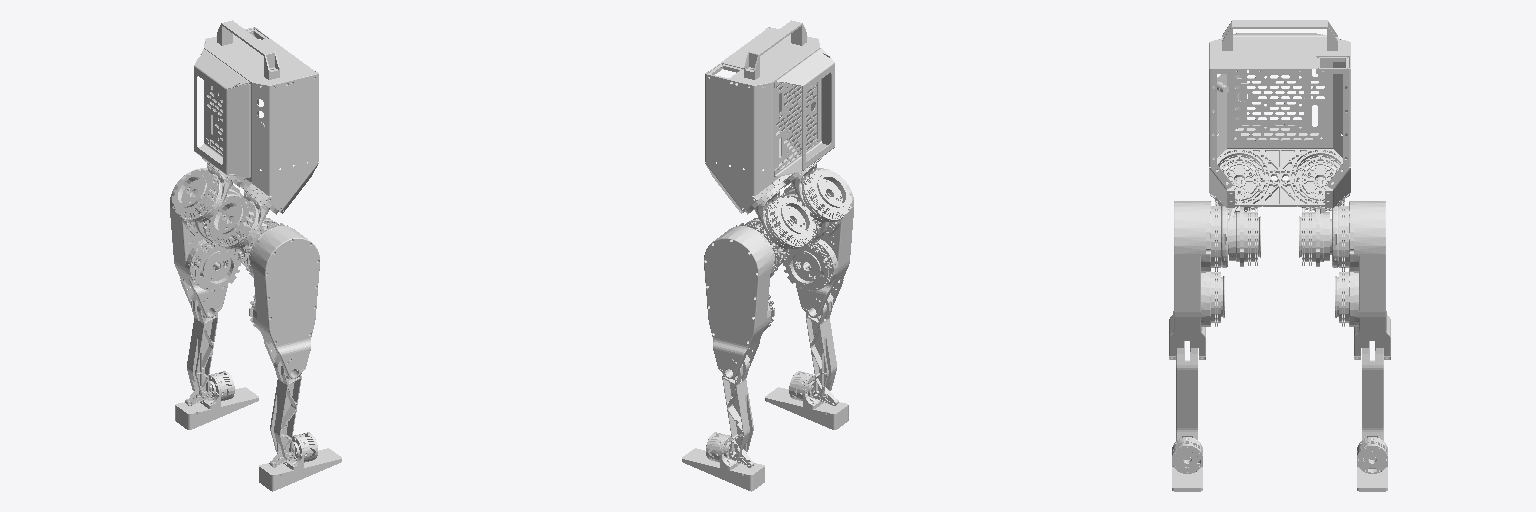
robot.urdf — onshape:
<robot name="onshape">
<link name="torso">
<visual>
<origin xyz="0 0 0" rpy="0 -0 0" />
<geometry>
<mesh filename="package://berkeley_humanoid_description/meshs/torso.stl"/>
</geometry>
<material name="torso_material">
<color rgba="0.91764705882352937127 0.91764705882352937127 0.91764705882352937127 1.0"/>
</material>
</visual>
<!-- Shapes for torso -->
<collision>
<origin xyz="0.020000000000000000416 0 0.11999999999999999556" rpy="0 -0 0" />
<geometry>
<box size="0.17999999999999999334 0.25 0.25" />
</geometry>
</collision>
<inertial>
<origin xyz="0.012329400000000033735 -0.0023557000000000078745 0.11404699999999998172" rpy="0 0 0"/>
<mass value="5.378118099999987578" />
<inertia ixx="0.089876431045178117873" ixy="-0.0012036644711563740211"  ixz="-0.00038411829254754816833" iyy="0.081725438039230421938" iyz="0.00060976296589066163612" izz="0.05304158706118268507" />
</inertial>
</link>

<link name="ll_hr">
<visual>
<origin xyz="8.3411161867551695001e-17 -0.069999999999999854006 1.5210270693501456768e-16" rpy="-4.7960273332227889665e-28 -0.78539816339744961127 -2.5931996357134510914e-31" />
<geometry>
<mesh filename="package://berkeley_humanoid_description/meshs/ll_hr.stl"/>
</geometry>
<material name="ll_hr_material">
<color rgba="0.91764705882352937127 0.91764705882352937127 0.91764705882352937127 1.0"/>
</material>
</visual>
<!-- Shapes for ll_hr -->
<inertial>
<origin xyz="-0.0071750125087001563606 0.00063800000000002743406 -0.060329643464054769075" rpy="0 0 0"/>
<mass value="0.7970000000000008189" />
<inertia ixx="0.0016406343011190645514" ixy="4.2346623516963226985e-06"  ixz="-0.00011521182091135505213" iyy="0.0012484152851109599127" iyz="5.8764351819077158761e-06" izz="0.00078961357000411312723" />
</inertial>
</link>

<link name="ll_haa">
<visual>
<origin xyz="0.064999999999999572009 -0.069999999999999742983 0.015799999999995966576" rpy="4.2166986512874552266e-15 0.785398163397448279 5.1233902195250893073e-31" />
<geometry>
<mesh filename="package://berkeley_humanoid_description/meshs/ll_haa.stl"/>
</geometry>
<material name="ll_haa_material">
<color rgba="0.91764705882352937127 0.91764705882352937127 0.91764705882352937127 1.0"/>
</material>
</visual>
<!-- Shapes for ll_haa -->
<collision>
<origin xyz="6.7798497201468355122e-05 -0.014999999999999319433 -0.064931795421634352916" rpy="1.5707963267949007768 0.785398163397448279 5.1233902195250893073e-31" />
<geometry>
<cylinder length="0.050000000000000002776" radius="0.055000000000000000278" />
</geometry>
</collision>
<inertial>
<origin xyz="0.00060661386446610177092 -0.0097349999999993917094 -0.061109176162539427524" rpy="0 0 0"/>
<mass value="0.89699999999999757705" />
<inertia ixx="0.0014612661065417926597" ixy="-9.508658014417258874e-07"  ixz="4.9263169120500148587e-06" iyy="0.0018641696668689586476" iyz="-0.00015708831652932371829" izz="0.00094931186312992559689" />
</inertial>
</link>

<link name="ll_hfe">
<visual>
<origin xyz="0.10309616869699468611 -0.011172287142745998545 -0.085799999999994921995" rpy="1.5707963267949038855 1.74899230643811231e-14 1.570796326794896558" />
<geometry>
<mesh filename="package://berkeley_humanoid_description/meshs/ll_hfe.stl"/>
</geometry>
<material name="ll_hfe_material">
<color rgba="0.91764705882352937127 0.91764705882352937127 0.91764705882352937127 1.0"/>
</material>
</visual>
<!-- Shapes for ll_hfe -->
<collision>
<origin xyz="9.6168696995690972074e-05 -2.8714274354774138587e-07 0.054200000000005646439" rpy="-3.1415926535897860106 1.74899230643811231e-14 1.570796326794896558" />
<geometry>
<cylinder length="0.089999999999999996669" radius="0.061499999999999999112" />
</geometry>
</collision>
<collision>
<origin xyz="-0.11490383130300428627 -2.8714274346100521207e-07 0.059200000000006428036" rpy="-3.1415926535897860106 1.74899230643811231e-14 1.570796326794896558" />
<geometry>
<cylinder length="0.080000000000000001665" radius="0.051999999999999997613" />
</geometry>
</collision>
<inertial>
<origin xyz="-0.059699831303004283201 -0.00099928714274370375459 0.04547300000000603637" rpy="0 0 0"/>
<mass value="2.6890000000000013891" />
<inertia ixx="0.0059944464330809786937" ixy="0.00019079100061922965332"  ixz="0.0014556175188272181455" iyy="0.018188324559920514972" iyz="-5.4409777543802354427e-05" izz="0.018978215894452029472" />
</inertial>
</link>

<link name="ll_kfe">
<visual>
<origin xyz="0.3230961686969961999 -0.011172287143240726068 -0.15999999999999256484" rpy="1.5707963267948958919 -1.8203544808569294933e-14 1.570796326794896558" />
<geometry>
<mesh filename="package://berkeley_humanoid_description/meshs/ll_kfe.stl"/>
</geometry>
<material name="ll_kfe_material">
<color rgba="0.91764705882352937127 0.91764705882352937127 0.91764705882352937127 1.0"/>
</material>
</visual>
<!-- Shapes for ll_kfe -->
<collision>
<origin xyz="-0.056903831303003915565 -0.0011722871432436384603 7.3274719625260331668e-15" rpy="1.5707963267948958919 -1.8203544808569294933e-14 1.570796326794896558" />
<geometry>
<box size="0.02999999999999999889 0.040000000000000000833 0.16000000000000000333" />
</geometry>
</collision>
<inertial>
<origin xyz="-0.085694831303003926593 -0.009280287143243599185 -0.0022319999999928182878" rpy="0 0 0"/>
<mass value="0.3499999999999999778" />
<inertia ixx="0.00010850320647079418472" ixy="-0.00013018330729977633403"  ixz="-8.4279113636776882454e-06" iyy="0.0015842167893813238148" iyz="-4.6628317965192898483e-06" izz="0.0016101360290329644765" />
</inertial>
</link>

<link name="ll_ffe">
<visual>
<origin xyz="0.50309616869699824715 -0.011172287143647298413 -0.15999999999998817946" rpy="1.5707963267948958919 -1.8203544808569294933e-14 1.570796326794896558" />
<geometry>
<mesh filename="package://berkeley_humanoid_description/meshs/ll_ffe.stl"/>
</geometry>
<material name="ll_ffe_material">
<color rgba="0.91764705882352937127 0.91764705882352937127 0.91764705882352937127 1.0"/>
</material>
</visual>
<!-- Shapes for ll_ffe -->
<inertial>
<origin xyz="-0.0010781713030018069688 0.023770712856349782149 6.8000000012059254968e-05" rpy="0 0 0"/>
<mass value="0.099322750000000056825" />
<inertia ixx="7.6220307054554564913e-05" ixy="-1.2169715047253270242e-05"  ixz="2.7666933550945111434e-07" iyy="1.1575849952207155593e-05" iyz="9.1677779895007629252e-07" izz="8.2015105811780541047e-05" />
</inertial>
</link>

<link name="ll_faa">
<visual>
<origin xyz="-0.15999999999998909539 0.50309616869699735897 -0.028672287143649135416" rpy="-1.570796326794896558 -1.570796326794896558 0" />
<geometry>
<mesh filename="package://berkeley_humanoid_description/meshs/ll_faa.stl"/>
</geometry>
<material name="ll_faa_material">
<color rgba="0.91764705882352937127 0.91764705882352937127 0.91764705882352937127 1.0"/>
</material>
</visual>
<!-- Shapes for ll_faa -->
<collision>
<origin xyz="1.090794121694216301e-14 -0.042903831303002681885 0.013327712856350867193" rpy="-3.141592653589793116 -1.3962636194521678146 1.570796326794896558" />
<geometry>
<box size="0.16000000000000000333 0.055000000000000000278 0.01200000000000000025" />
</geometry>
</collision>
<collision>
<origin xyz="1.090794121694216301e-14 9.6168696997356306611e-05 0.038827712856350865556" rpy="-3.141592653589793116 -6.520241754503373831e-42 1.570796326794896558" />
<geometry>
<cylinder length="0.06500000000000000222" radius="0.026999999999999999695" />
</geometry>
</collision>
<inertial>
<origin xyz="-2.8999999989176572512e-05 -0.016397831303002541325 0.015338712856350831398" rpy="0 0 0"/>
<mass value="0.50700000000000067235" />
<inertia ixx="0.0010941972153327909727" ixy="1.2622581346702725591e-06"  ixz="3.5182387734493031009e-06" iyy="0.0009101859819928102965" iyz="-0.00019146081159969580133" izz="0.00044396659684889345316" />
</inertial>
</link>

<link name="LL_FOOT">
<inertial>
<origin xyz="0 0 0" rpy="0 0 0" />
<mass value="1e-9" />
<inertia ixx="0" ixy="0" ixz="0" iyy="0" iyz="0" izz="0" />
</inertial>
</link>
<joint name="LL_FOOT_frame" type="fixed">
<origin xyz="5.8564264548977007507e-15 -0.048688979881312266507 0.014485028526583749314" rpy="3.141592653589793116 -1.3962634015954653588 1.570796326794896558" />
<parent link="ll_faa" />
<child link="LL_FOOT" />
<axis xyz="0 0 0"/>
</joint>

<joint name="LL_FAA" type="revolute">
<origin xyz="-3.6637359812630165834e-15 0.017499999999998770012 -3.8857805861880478915e-16" rpy="-1.5707963267948938935 -1.5707963267948830133 0" />
<parent link="ll_ffe" />
<child link="ll_faa" />
<axis xyz="0 0 1"/>
<limit effort="5" velocity="42" lower="-0.52359877559829881566" upper="0.52359877559829881566"/>
<joint_properties friction="0.0"/>
</joint>

<joint name="LL_FFE" type="revolute">
<origin xyz="-0.18000000000000221378 4.0657234523511220914e-13 -4.4131365228849972482e-15" rpy="1.1476240689710679376e-27 8.5046658791676055396e-29 8.3266726846923028133e-17" />
<parent link="ll_kfe" />
<child link="ll_ffe" />
<axis xyz="0 0 1"/>
<limit effort="20" velocity="20" lower="-0.52359877559829881566" upper="0.69813170079773179122"/>
<joint_properties friction="0.0"/>
</joint>

<joint name="LL_KFE" type="revolute">
<origin xyz="-0.21999999999999989009 5.0031506715342288771e-13 0.074199999999999918798" rpy="-3.6817022053377870126e-14 8.7267374499327085356e-15 1.9428902930912523323e-16" />
<parent link="ll_hfe" />
<child link="ll_kfe" />
<axis xyz="0 0 1"/>
<limit effort="30" velocity="14" lower="0" upper="2.0943951023931952626"/>
<joint_properties friction="0.0"/>
</joint>

<joint name="LL_HFE" type="revolute">
<origin xyz="2.6367796834847467835e-16 0.015799999999994956967 -0.064999999999999530376" rpy="-1.5707963267948812369 -0.78539816339744850104 7.0425066851191171402e-15" />
<parent link="ll_haa" />
<child link="ll_hfe" />
<axis xyz="0 0 1"/>
<limit effort="30" velocity="20" lower="-1.7453292519943295336" upper="0.52359877559829881566"/>
<joint_properties friction="0.0"/>
</joint>

<joint name="LL_HAA" type="revolute">
<origin xyz="0.015799999999996268418 -2.7755575615628913511e-16 -0.064999999999999849565" rpy="-3.9874966918901588628e-15 -1.5707963267948950037 0" />
<parent link="ll_hr" />
<child link="ll_haa" />
<axis xyz="0 0 1"/>
<limit effort="20" velocity="23" lower="-0.61086523819801530344" upper="0.61086523819801530344"/>
<joint_properties friction="0.0"/>
</joint>

<joint name="LL_HR" type="revolute">
<origin xyz="-1.6653345369377348106e-16 0.069999999999999854006 -4.8572257327350610969e-17" rpy="4.2686888720530165754e-16 0.78539816339746193474 2.380040609040672766e-15" />
<parent link="torso" />
<child link="ll_hr" />
<axis xyz="0 0 1"/>
<limit effort="20" velocity="23" lower="-0.61086523819801530344" upper="0.61086523819801530344"/>
<joint_properties friction="0.0"/>
</joint>

<link name="lr_hr">
<visual>
<origin xyz="9.8130778667825160077e-17 0.070000000000000062172 1.7663540160183579609e-16" rpy="-1.80256122170187935e-27 -0.7853981633974492782 -1.8367624050141598029e-31" />
<geometry>
<mesh filename="package://berkeley_humanoid_description/meshs/lr_hr.stl"/>
</geometry>
<material name="lr_hr_material">
<color rgba="0.91764705882352937127 0.91764705882352937127 0.91764705882352937127 1.0"/>
</material>
</visual>
<!-- Shapes for lr_hr -->
<inertial>
<origin xyz="-0.0071750125087001589627 -0.00063800000000023560087 -0.060329643464055830726" rpy="0 0 0"/>
<mass value="0.79699999999999693312" />
<inertia ixx="0.0016409930094170518695" ixy="8.0630526667213361863e-07"  ixz="-0.00011521182091140817804" iyy="0.0012484152851109570938" iyz="-4.3689717945135577451e-06" izz="0.00078997227830219000043" />
</inertial>
</link>

<link name="lr_haa">
<visual>
<origin xyz="0.064999999999999585887 0.070000000000000159317 0.015799999999996452299" rpy="3.365885708303340778e-15 0.78539816339744861207 1.2683748906114756047e-31" />
<geometry>
<mesh filename="package://berkeley_humanoid_description/meshs/lr_haa.stl"/>
</geometry>
<material name="lr_haa_material">
<color rgba="0.91764705882352937127 0.91764705882352937127 0.91764705882352937127 1.0"/>
</material>
</visual>
<!-- Shapes for lr_haa -->
<collision>
<origin xyz="6.779849720116304379e-05 0.015000000000000505984 -0.064931795421634158627" rpy="1.5707963267948998887 0.78539816339744861207 1.2683748906114756047e-31" />
<geometry>
<cylinder length="0.050000000000000002776" radius="0.055000000000000000278" />
</geometry>
</collision>
<inertial>
<origin xyz="0.00060661386446551890383 0.0097350000000009546952 -0.061109176162539420585" rpy="0 0 0"/>
<mass value="0.89700000000000745803" />
<inertia ixx="0.0014661274494049468618" ixy="-9.7460256768142710017e-08"  ixz="1.2006374236349762426e-06" iyy="0.0018651290713510967813" iyz="0.00015962052014566310626" izz="0.00094540985323500372883" />
</inertial>
</link>

<link name="lr_hfe">
<visual>
<origin xyz="0.10309616869699547714 -0.011172287142743415542 0.085800000000000278821" rpy="1.5707963267948978903 2.4663018163742551871e-15 1.570796326794896558" />
<geometry>
<mesh filename="package://berkeley_humanoid_description/meshs/lr_hfe.stl"/>
</geometry>
<material name="lr_hfe_material">
<color rgba="0.91764705882352937127 0.91764705882352937127 0.91764705882352937127 1.0"/>
</material>
</visual>
<!-- Shapes for lr_hfe -->
<collision>
<origin xyz="9.6168696995316271803e-05 -2.8714274375937764994e-07 -0.054199999999999623479" rpy="-3.1415926535897922278 2.4663018163742551871e-15 1.570796326794896558" />
<geometry>
<cylinder length="0.089999999999999996669" radius="0.061499999999999999112" />
</geometry>
</collision>
<collision>
<origin xyz="-0.11490383130300468872 -2.8714274377152071427e-07 -0.059199999999999461386" rpy="-3.1415926535897922278 2.4663018163742551871e-15 1.570796326794896558" />
<geometry>
<cylinder length="0.080000000000000001665" radius="0.051999999999999997613" />
</geometry>
</collision>
<inertial>
<origin xyz="-0.059699831303004546879 -0.00099928714274374538795 -0.045472999999999409726" rpy="0 0 0"/>
<mass value="2.6890000000000005009" />
<inertia ixx="0.0059944093540668071454" ixy="0.00019189741544671393234"  ixz="-0.0014560673148697135439" iyy="0.018186321637810375779" iyz="5.4856004218848921283e-05" izz="0.018976154384902375882" />
</inertial>
</link>

<link name="lr_kfe">
<visual>
<origin xyz="0.32309616869699464559 -0.011172287142751816807 0.16000000000000005884" rpy="1.570796326794896558 2.0387620342698703042e-30 1.570796326794896558" />
<geometry>
<mesh filename="package://berkeley_humanoid_description/meshs/lr_kfe.stl"/>
</geometry>
<material name="lr_kfe_material">
<color rgba="0.91764705882352937127 0.91764705882352937127 0.91764705882352937127 1.0"/>
</material>
</visual>
<!-- Shapes for lr_kfe -->
<collision>
<origin xyz="-0.056903831303005469877 -0.0011722871427518165993 5.5511151231257827021e-17" rpy="1.570796326794896558 2.0387620342698703042e-30 1.570796326794896558" />
<geometry>
<box size="0.02999999999999999889 0.040000000000000000833 0.16000000000000000333" />
</geometry>
</collision>
<inertial>
<origin xyz="-0.085694831303005480905 -0.0092802871427518172226 0.002232000000000039508" rpy="0 0 0"/>
<mass value="0.3499999999999999778" />
<inertia ixx="0.00010850319312452964794" ixy="-0.00013018331822973311634"  ixz="8.4281249094896539442e-06" iyy="0.0015842167725954475234" iyz="4.6628220175844334544e-06" izz="0.0016101360242463363514" />
</inertial>
</link>

<link name="lr_ffe">
<visual>
<origin xyz="0.50309616869699469444 -0.011172287142751494149 0.15999999999999989231" rpy="1.570796326794896558 5.0826844163181759162e-31 1.570796326794896558" />
<geometry>
<mesh filename="package://berkeley_humanoid_description/meshs/lr_ffe.stl"/>
</geometry>
<material name="lr_ffe_material">
<color rgba="0.91764705882352937127 0.91764705882352937127 0.91764705882352937127 1.0"/>
</material>
</visual>
<!-- Shapes for lr_ffe -->
<inertial>
<origin xyz="-0.0010781713030051376379 0.02377071285724849381 -6.8000000000095761621e-05" rpy="0 0 0"/>
<mass value="0.099322280000000040534" />
<inertia ixx="7.622033243367977147e-05" ixy="-1.2169429363959850755e-05"  ixz="-2.7660647920346263361e-07" iyy="1.1575718442005015032e-05" iyz="-9.1667649289161780381e-07" izz="8.201492674814341347e-05" />
</inertial>
</link>

<link name="lr_faa">
<visual>
<origin xyz="0.16000000000000080824 0.50309616869699469444 -0.028672287142751599898" rpy="-1.570796326794896558 -1.570796326794896558 0" />
<geometry>
<mesh filename="package://berkeley_humanoid_description/meshs/lr_faa.stl"/>
</geometry>
<material name="lr_faa_material">
<color rgba="0.91764705882352937127 0.91764705882352937127 0.91764705882352937127 1.0"/>
</material>
</visual>
<!-- Shapes for lr_faa -->
<collision>
<origin xyz="8.0491169285323849181e-16 -0.04290383130300534642 0.013327712857248402711" rpy="3.141592653589793116 -1.3962636194521678146 1.570796326794896558" />
<geometry>
<box size="0.16000000000000000333 0.055000000000000000278 0.01200000000000000025" />
</geometry>
</collision>
<collision>
<origin xyz="8.0491169285323849181e-16 9.6168696994691771351e-05 0.038827712857248404543" rpy="3.141592653589793116 -3.0814879110221995446e-31 1.570796326794896558" />
<geometry>
<cylinder length="0.06500000000000000222" radius="0.026999999999999999695" />
</geometry>
</collision>
<inertial>
<origin xyz="2.9000000000833914271e-05 -0.0163368313030051171 0.015338712857248394672" rpy="0 0 0"/>
<mass value="0.50700000000000011724" />
<inertia ixx="0.0010948634166535289088" ixy="-1.3506187775236006862e-06"  ixz="-3.5176485711190878634e-06" iyy="0.00091018596985867122537" iyz="-0.00019142590272031565803" izz="0.00044463279984352933449" />
</inertial>
</link>

<link name="LR_FOOT">
<inertial>
<origin xyz="0 0 0" rpy="0 0 0" />
<mass value="1e-9" />
<inertia ixx="0" ixy="0" ixz="0" iyy="0" iyz="0" izz="0" />
</inertial>
</link>
<joint name="LR_FOOT_frame" type="fixed">
<origin xyz="-2.7755575615628913511e-16 -0.048688979881310823217 0.014485028526582469088" rpy="-3.141592653589793116 -1.3962634015954653588 1.570796326794896558" />
<parent link="lr_faa" />
<child link="LR_FOOT" />
<axis xyz="0 0 0"/>
</joint>

<joint name="LR_FAA" type="revolute">
<origin xyz="7.771561172376095783e-16 0.017500000000000015543 -9.1593399531575414585e-16" rpy="-1.570796326794896336 -1.5707963267948850117 0" />
<parent link="lr_ffe" />
<child link="lr_faa" />
<axis xyz="0 0 1"/>
<limit effort="5" velocity="42" lower="-0.52359877559829881566" upper="0.52359877559829881566"/>
<joint_properties friction="0.0"/>
</joint>

<joint name="LR_FFE" type="revolute">
<origin xyz="-0.1800000000000017697 2.9490299091605720605e-17 -9.7144514654701197287e-16" rpy="-2.4605607242230561785e-15 -2.1937466413332281916e-15 -2.4980018054056664297e-16" />
<parent link="lr_kfe" />
<child link="lr_ffe" />
<axis xyz="0 0 1"/>
<limit effort="20" velocity="23" lower="-0.52359877559829881566" upper="0.69813170079773179122"/>
<joint_properties friction="0.0"/>
</joint>

<joint name="LR_KFE" type="revolute">
<origin xyz="-0.21999999999999853006 7.7264583620006987985e-15 -0.074199999999998419997" rpy="1.2766813666707529471e-14 1.7506442815481622092e-15 -4.7184478546574556665e-16" />
<parent link="lr_hfe" />
<child link="lr_kfe" />
<axis xyz="0 0 1"/>
<limit effort="30" velocity="14" lower="0" upper="2.0943951023931952626"/>
<joint_properties friction="0.0"/>
</joint>

<joint name="LR_HFE" type="revolute">
<origin xyz="-1.0130785099704553431e-15 -0.015799999999999869704 -0.064999999999998711586" rpy="-1.570796326794891673 -0.78539816339745049945 2.2818401626814027346e-14" />
<parent link="lr_haa" />
<child link="lr_hfe" />
<axis xyz="0 0 1"/>
<limit effort="30" velocity="20" lower="-1.7453292519943295336" upper="0.52359877559829881566"/>
<joint_properties friction="0.0"/>
</joint>

<joint name="LR_HAA" type="revolute">
<origin xyz="0.015799999999996469646 -2.9143354396410359186e-16 -0.064999999999999238942" rpy="-2.3800406090414426943e-15 -1.5707963267948694686 0" />
<parent link="lr_hr" />
<child link="lr_haa" />
<axis xyz="0 0 1"/>
<limit effort="20" velocity="23" lower="-0.61086523819801530344" upper="0.61086523819801530344"/>
<joint_properties friction="0.0"/>
</joint>

<joint name="LR_HR" type="revolute">
<origin xyz="1.1232681451645076202e-15 -0.070000000000000575651 1.4718781748967987512e-15" rpy="1.4130832128180086564e-15 0.7853981633974472798 -8.3266726844983662902e-17" />
<parent link="torso" />
<child link="lr_hr" />
<axis xyz="0 0 1"/>
<limit effort="20" velocity="23" lower="-0.61086523819801530344" upper="0.61086523819801530344"/>
<joint_properties friction="0.0"/>
</joint>


</robot>

--- Render facts (derived) ---
Views: 3 orthographic renders of the robot side by side, from view 1: azimuth 30°, elevation 25°; view 2: azimuth 150°, elevation 25°; view 3: azimuth 270°, elevation 25°.
Robot: onshape — 15 links, 14 joints (12 revolute, 2 fixed); root link torso; default pose: every joint at zero.
Visible links, largest first — view 1: torso, lr_hfe, ll_hfe, lr_hr, ll_hr, ll_faa, lr_faa, lr_kfe, ll_kfe; view 2: torso, ll_hfe, lr_hfe, ll_hr, lr_hr, lr_faa, ll_faa, ll_kfe, lr_kfe; view 3: torso, ll_hfe, lr_hfe, ll_kfe, lr_kfe, lr_haa, ll_haa, ll_faa, lr_faa, ll_hr, lr_hr.
Link boxes in pixels (<box>): torso: <box>194,20,318,214</box>; lr_hfe: <box>244,223,319,378</box>; ll_hfe: <box>170,168,243,317</box>; lr_hr: <box>208,190,269,248</box>; ll_hr: <box>172,163,232,222</box>; ll_faa: <box>175,371,258,429</box>; lr_faa: <box>259,432,341,491</box>; lr_kfe: <box>270,356,301,459</box>; ll_kfe: <box>187,295,217,398</box>; torso: <box>705,20,834,214</box>; ll_hfe: <box>704,223,779,378</box>; lr_hfe: <box>780,168,853,317</box>; ll_hr: <box>754,190,815,248</box>; lr_hr: <box>791,163,851,222</box>; lr_faa: <box>765,371,848,429</box>; ll_faa: <box>682,432,764,491</box>; ll_kfe: <box>722,356,753,459</box>; lr_kfe: <box>806,295,836,398</box>; torso: <box>1209,20,1350,207</box>; ll_hfe: <box>1330,201,1390,359</box>; lr_hfe: <box>1169,201,1228,359</box>; ll_kfe: <box>1362,341,1383,440</box>; lr_kfe: <box>1176,341,1197,440</box>; lr_haa: <box>1220,202,1260,266</box>; ll_haa: <box>1299,203,1338,266</box>; ll_faa: <box>1357,437,1387,491</box>; lr_faa: <box>1172,437,1202,491</box>; ll_hr: <box>1300,162,1350,210</box>; lr_hr: <box>1209,162,1259,210</box>.
Bounding box of the posed robot: 0.2213 × 0.384 × 0.8733 m (x, y, z).
Meshes: 13 distinct files referenced, 13 mesh visuals loaded (13 binary STL).